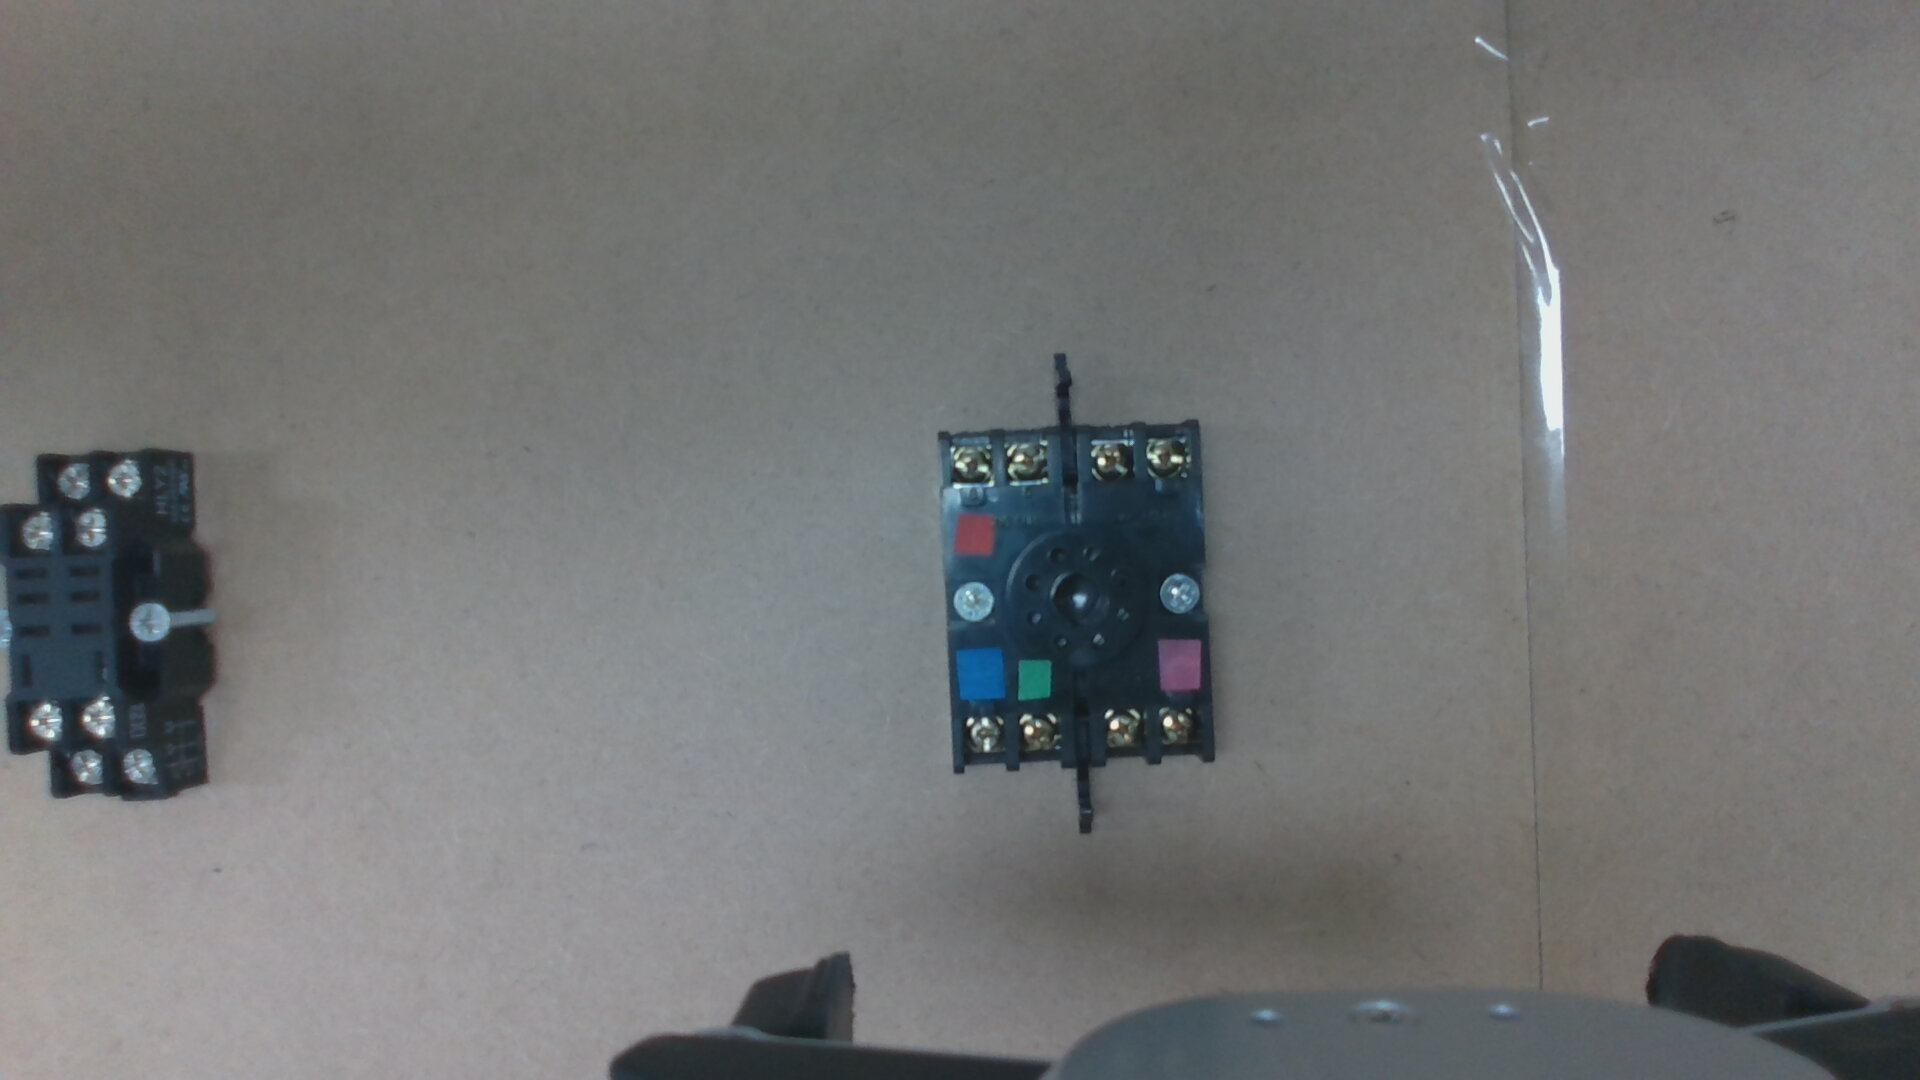timer 2: (1160, 707, 1196, 745)
timer 6: (949, 446, 992, 481)
timer 7: (965, 717, 1002, 753)
timer 8: (1019, 715, 1058, 750)
